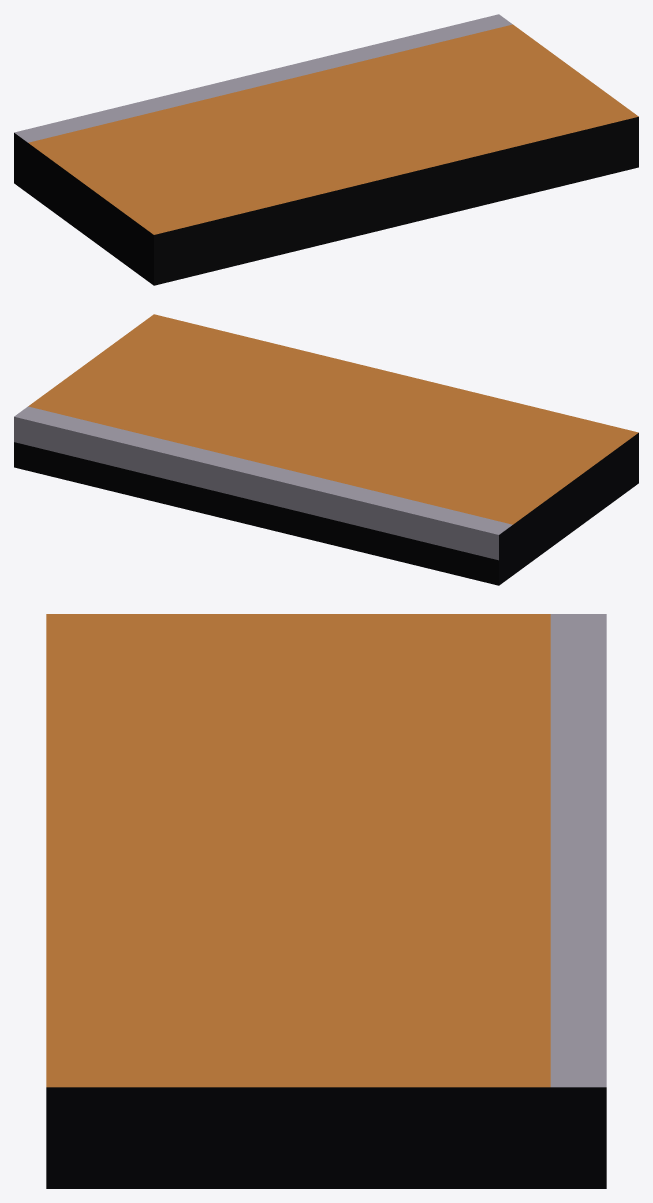
File: ManPad_Half_1_OneGrind.obj
3 renders of one model, top to bottom at view 1: azimuth 30°, elevation 25°; view 2: azimuth 150°, elevation 25°; view 3: azimuth 270°, elevation 25°, orthographic. The views are drawn at different scales.
Parts seen in each view (by area): view 1: ManPad_Half_1_OneGrind; view 2: ManPad_Half_1_OneGrind; view 3: ManPad_Half_1_OneGrind.
Part boxes in pixels (box(x1,y1,x2,y2)): ManPad_Half_1_OneGrind: box(14, 14, 638, 285); ManPad_Half_1_OneGrind: box(14, 314, 638, 585); ManPad_Half_1_OneGrind: box(46, 614, 606, 1188).
Size of the model in its own units: 10 by 1 by 5.
